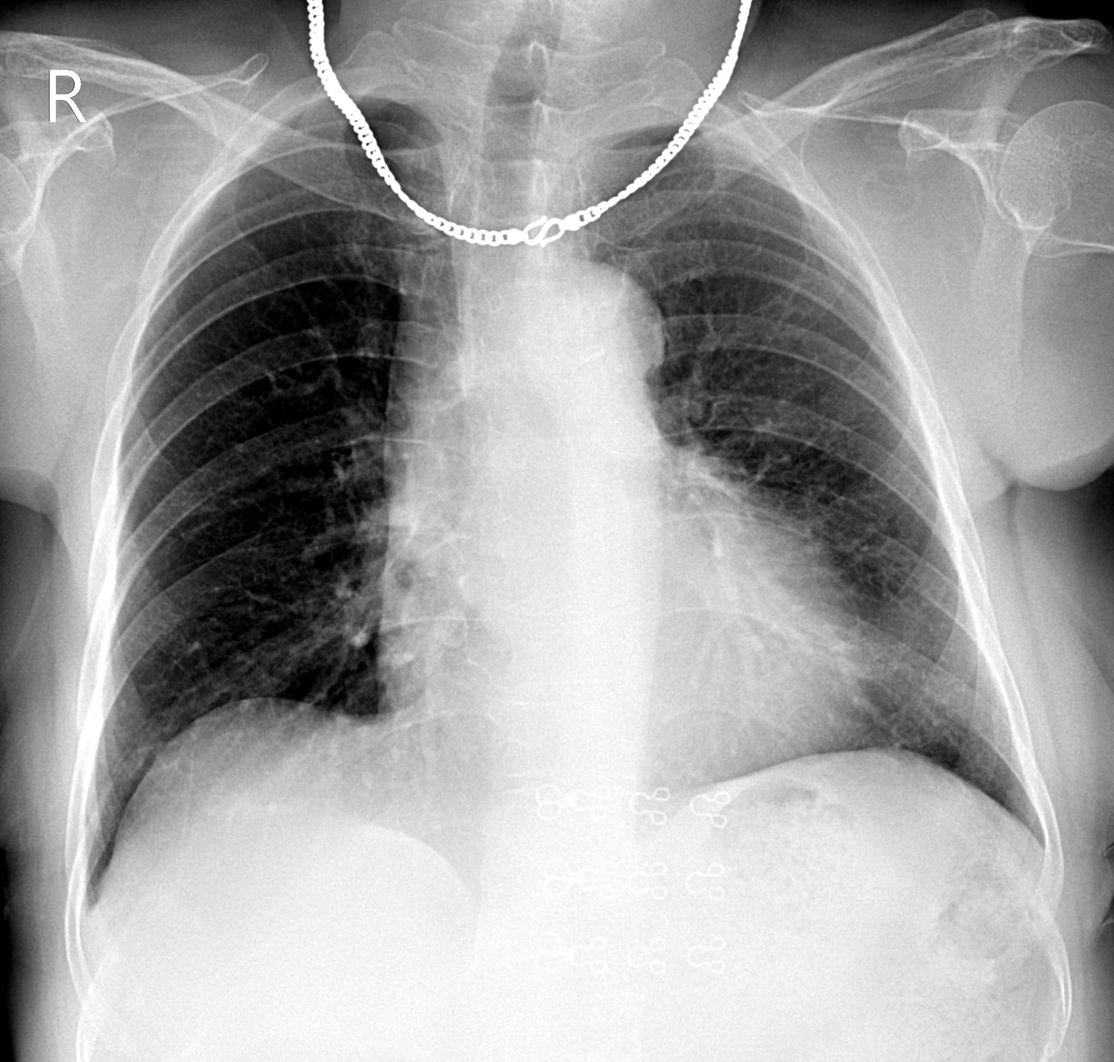Aortic enlargement: (503, 255, 669, 413)
Cardiomegaly: (372, 572, 875, 782)
Pleural thickening: (582, 102, 699, 138)
